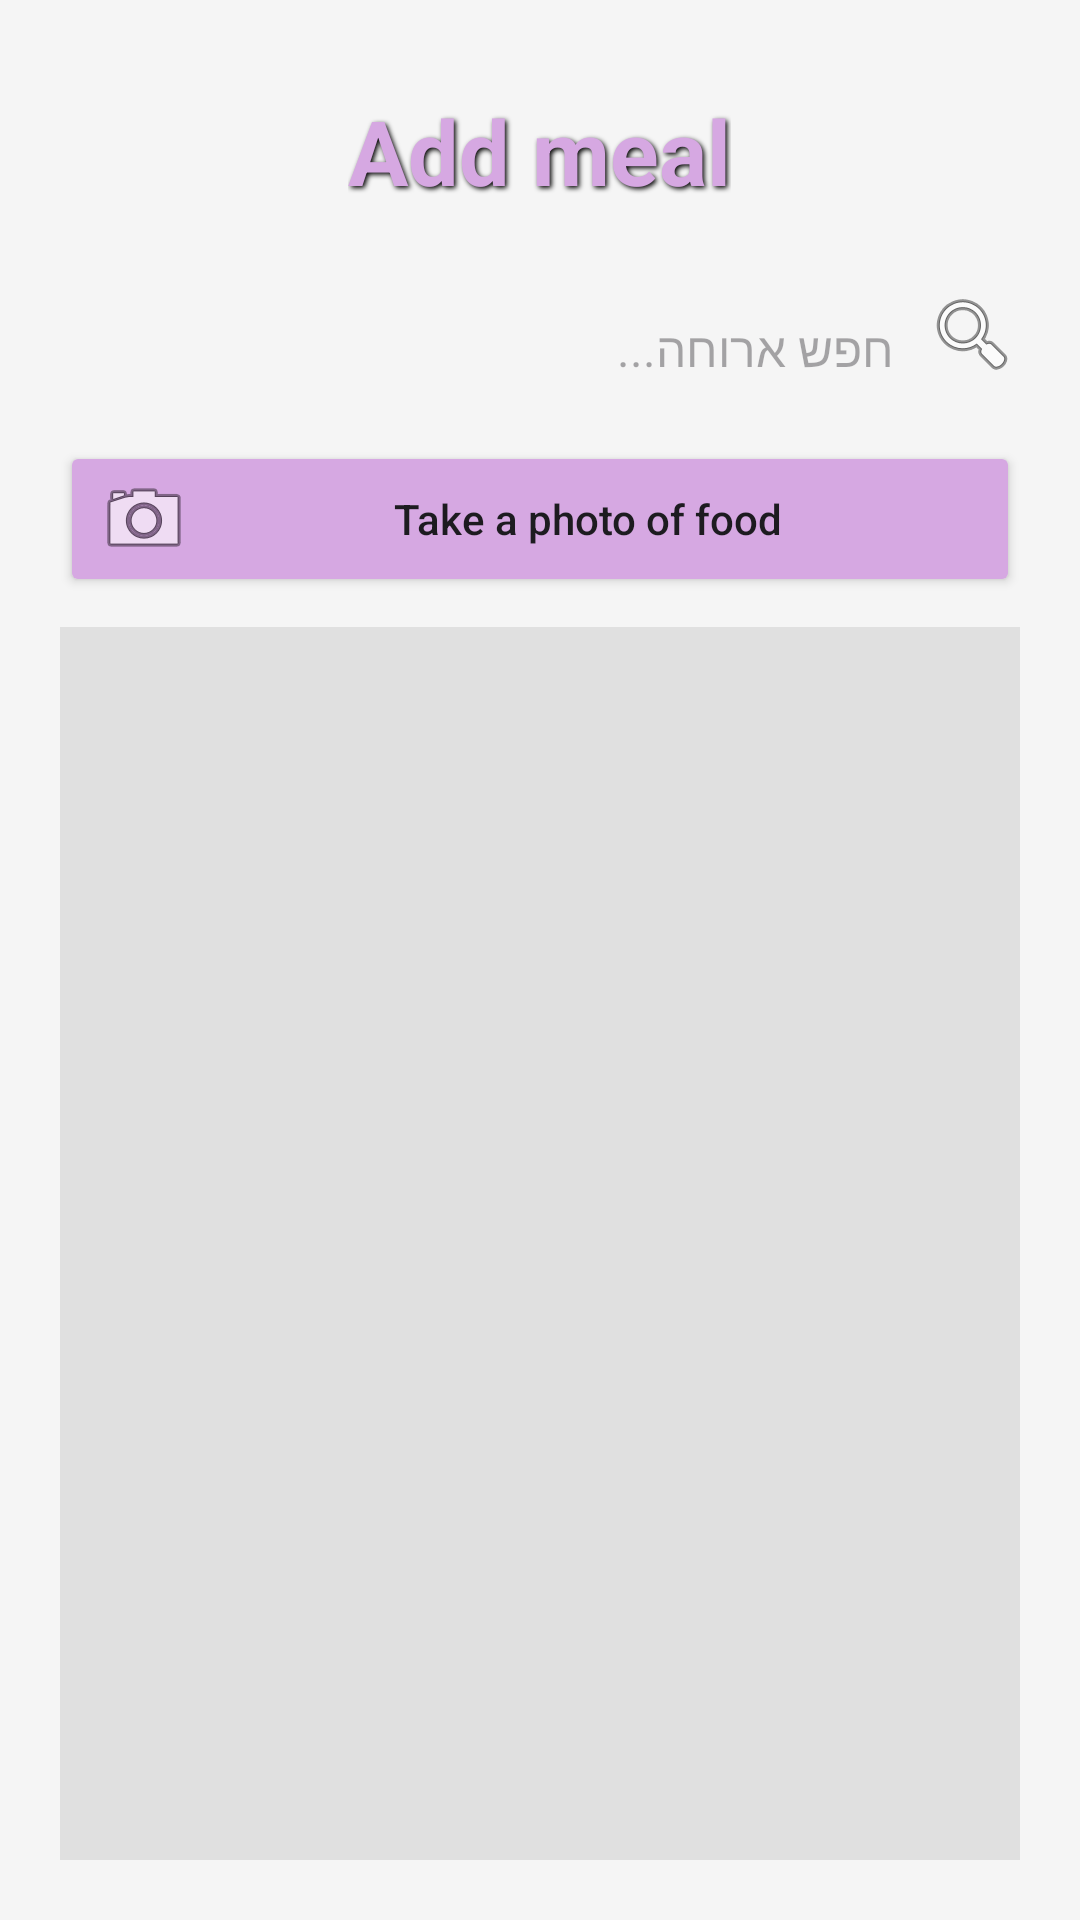

Where icons sit on this 1080×1920 app screen, as rect(x1, y1, x2, y2):
Search: rect(936, 299, 1008, 370)
